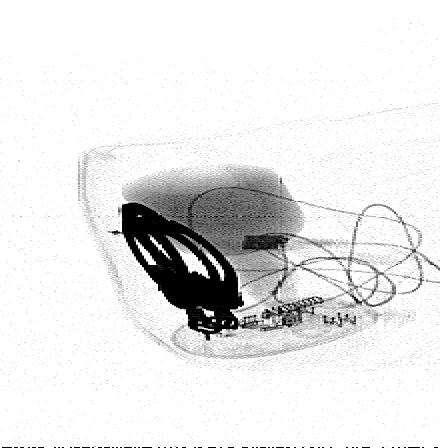HandCuffs: (118, 199, 247, 335)
